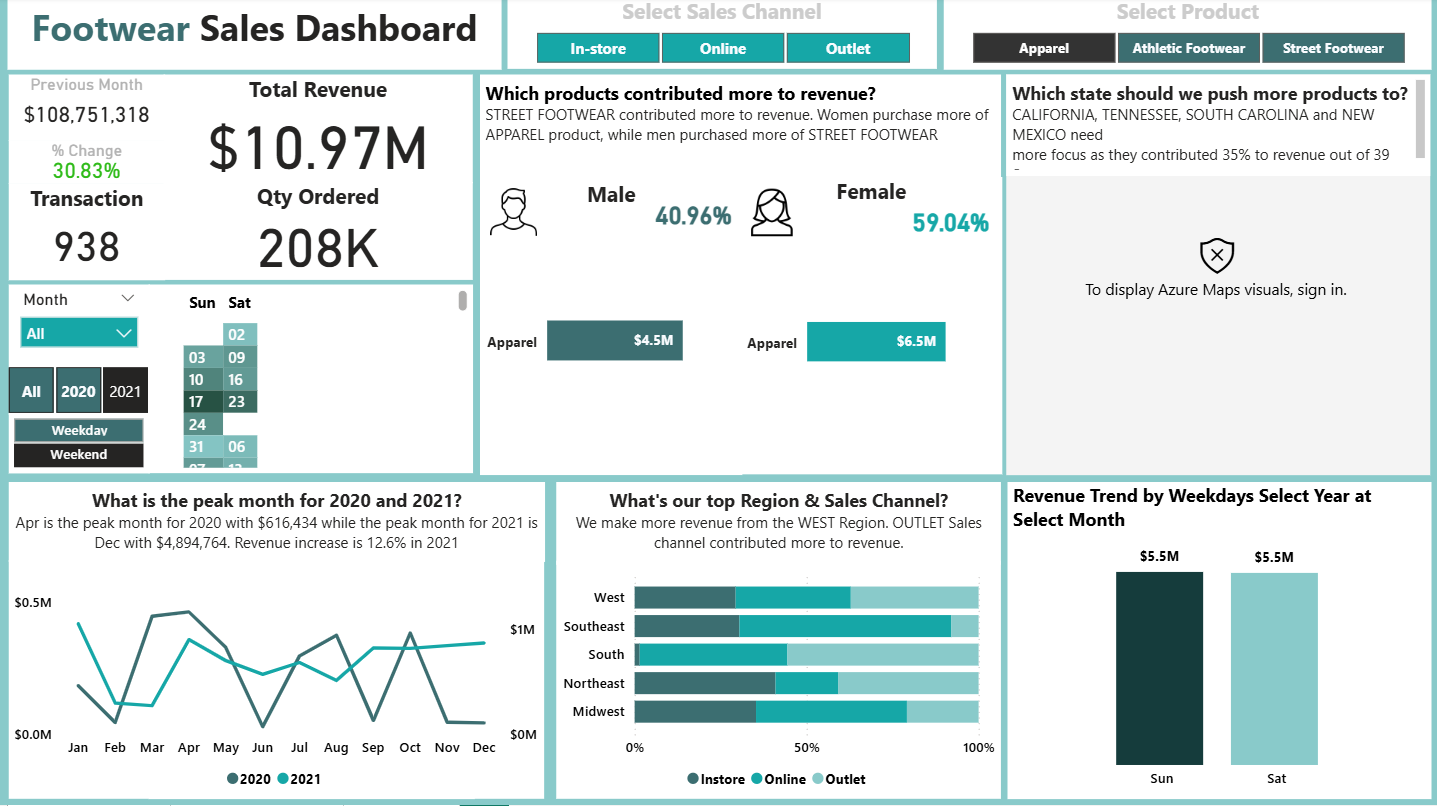

Layout of this report page (visuals, bound fields, positions):
{"tool":"powerbi","page":{"name":"Sales Dashboard","canvas":[1280,720],"ordinal":0},"visuals":[{"type":"textbox","box":[7,0,440,64.7],"z":0},{"type":"group","id":"g1","title":"Group 5","box":[427,68.7,464.8,356.5],"z":0,"group":"g5"},{"type":"hundredPercentStackedBarChart","fields":{"Category":["Adidas Sales.Region"],"Y":["Adidas Sales.Total Revenue of Instore","Adidas Sales.Total Revenue of Online","Adidas Sales.Total Revenue of Outlet"]},"box":[495.7,501.8,396.3,212.3],"z":0,"group":"g4"},{"type":"card","title":"Total Revenue","fields":{"Values":["Sum(Adidas Sales.Total Revenue)"]},"box":[146,68.5,275,97],"z":1000,"group":"g7"},{"type":"textbox","box":[495.7,431.9,396.3,73.6],"z":1000,"group":"g4"},{"type":"columnChart","fields":{"Category":["Date Table.Week Name"],"Y":["Sum(Adidas Sales.Total Revenue)"]},"box":[896.9,431.9,377.9,282.2],"z":1000},{"type":"slicer","title":"Select Sales Channel","fields":{"Values":["Adidas Sales.Sales Method"]},"box":[452,0,382,63.9],"z":2000},{"type":"image","box":[427.7,164.1,57.6,53.7],"z":2000,"group":"g8"},{"type":"slicer","title":"Select Product","fields":{"Values":["Adidas Sales.Product"]},"box":[840,0,434.7,65.1],"z":3000},{"type":"card","title":"Qty Ordered","fields":{"Values":["Sum(Adidas Sales.Units Sold)"]},"box":[146,164,275,87],"z":3000,"group":"g7"},{"type":"bookmarkNavigator","title":"Select Year","box":[8,330,125.2,42],"z":3000,"group":"g6"},{"type":"group","id":"g2","title":"Group 1","box":[133,68.7,1141.9,645.3],"z":4000},{"type":"image","box":[658.3,165.3,56.5,52.5],"z":4000,"group":"g8"},{"type":"card","title":"Transaction","fields":{"Values":["CountNonNull(Adidas Sales.Product)"]},"box":[8,165,139,86],"z":5000,"group":"g7"},{"type":"group","id":"g3","title":"Group 2","box":[7.4,431.9,477.3,282.2],"z":5000},{"type":"card","title":"% Change","fields":{"Values":["Sum(Bridge Table.% Change as Month)"]},"box":[7.8,127,139,38.1],"z":6000,"group":"g7"},{"type":"group","id":"g4","title":"Group 3","box":[495.7,431.9,396.3,282.2],"z":6000},{"type":"clusteredBarChart","title":"Male","fields":{"Category":["Adidas Sales.Product"],"Y":["Sum(Adidas Sales.Total Revenue)"]},"box":[427,162.2,233.8,263.1],"z":7000,"group":"g1"},{"type":"card","title":"Previous Month","fields":{"Values":["Sum(Bridge Table.PreviousMonthRevenue)"]},"box":[8,68.7,139,59],"z":8000,"group":"g7"},{"type":"group","id":"g5","title":"Group 8","box":[427,68.7,465,357.1],"z":8000},{"type":"barChart","title":"Female","fields":{"Category":["Adidas Sales.Product"],"Y":["Sum(Adidas Sales.Total Revenue)"]},"box":[658,159.6,233.8,265],"z":8000,"group":"g1"},{"type":"azureMap","fields":{"Category":["Adidas Sales.State"],"Series":["Adidas Sales.City"]},"box":[896.9,68.8,377.4,357],"z":9000,"group":"g2"},{"type":"group","id":"g6","title":"Group 4","box":[8,256.4,414,168.2],"z":9000},{"type":"group","id":"g7","title":"Group 7","box":[7.8,68.5,413.2,182.5],"z":10000},{"type":"lineChart","fields":{"Y2":["Adidas Sales.Total Revenue in 2021"],"Y":["Adidas Sales.Total Revenue in 2020"],"Category":["Date Table.Month Name"]},"box":[7.4,501.8,476.6,212.3],"z":10000,"group":"g3"},{"type":"textbox","box":[897.2,68.7,377.7,90.1],"z":11000,"group":"g2"},{"type":"pivotTable","fields":{"Columns":["Date Table.Week Name"],"Values":["Min(Date Table.Day)"],"Rows":["Date Table.Week Number"]},"box":[133,256.5,289,168.1],"z":11000,"group":"g6"},{"type":"textbox","box":[7.4,431.9,477.3,71.2],"z":11003,"group":"g3"},{"type":"card","fields":{"Values":["Adidas Sales.Female Contribution"]},"box":[802.3,180.4,85.9,38],"z":12000,"group":"g8"},{"type":"slicer","fields":{"Values":["Date Table.Month Year"]},"box":[8,256.4,125.2,73.6],"z":12000,"group":"g6"},{"type":"azureMap","box":[133,432,290,282],"z":12001,"group":"g2"},{"type":"card","fields":{"Values":["Adidas Sales.Male Contribution"]},"box":[574.1,170.6,84.7,46.6],"z":13000,"group":"g8"},{"type":"textbox","box":[427,68.7,464.1,94.5],"z":13002,"group":"g1"},{"type":"group","id":"g8","title":"Group 6","box":[427.7,164.1,460.5,54.4],"z":16001,"group":"g5"},{"type":"advancedSlicerVisual","fields":{"Values":["Date Table.Weekdays/Weekend"]},"box":[8,370.9,125.2,53.6],"z":16001,"group":"g6"}]}

Visuals, with their boxes in screenshot pixels (x1, y1, x2, y2), scaled from the page's 1280x720 canvas onto the 1437x806 screenshot:
textbox: Rect(8, 0, 502, 72)
"Group 5" group: Rect(479, 77, 1001, 476)
hundredPercentStackedBarChart - Adidas Sales.Region x Adidas Sales.Total Revenue of Instore: Rect(557, 562, 1001, 799)
"Total Revenue" card: Rect(164, 77, 473, 185)
textbox: Rect(557, 483, 1001, 566)
columnChart - Date Table.Week Name x Sum(Adidas Sales.Total Revenue): Rect(1007, 483, 1431, 799)
"Select Sales Channel" slicer: Rect(507, 0, 936, 72)
image: Rect(480, 184, 545, 244)
"Select Product" slicer: Rect(943, 0, 1431, 73)
"Qty Ordered" card: Rect(164, 184, 473, 281)
"Select Year" bookmarkNavigator: Rect(9, 369, 150, 416)
"Group 1" group: Rect(149, 77, 1431, 799)
image: Rect(739, 185, 802, 244)
"Transaction" card: Rect(9, 185, 165, 281)
"Group 2" group: Rect(8, 483, 544, 799)
"% Change" card: Rect(9, 142, 165, 185)
"Group 3" group: Rect(557, 483, 1001, 799)
"Male" clusteredBarChart: Rect(479, 182, 742, 476)
"Previous Month" card: Rect(9, 77, 165, 143)
"Group 8" group: Rect(479, 77, 1001, 477)
"Female" barChart: Rect(739, 179, 1001, 475)
azureMap - Adidas Sales.State x Adidas Sales.City: Rect(1007, 77, 1431, 477)
"Group 4" group: Rect(9, 287, 474, 475)
"Group 7" group: Rect(9, 77, 473, 281)
lineChart - Adidas Sales.Total Revenue in 2021 x Adidas Sales.Total Revenue in 2020: Rect(8, 562, 543, 799)
textbox: Rect(1007, 77, 1431, 178)
pivotTable - Date Table.Week Name x Min(Date Table.Day): Rect(149, 287, 474, 475)
textbox: Rect(8, 483, 544, 563)
card - Adidas Sales.Female Contribution: Rect(901, 202, 997, 244)
slicer - Date Table.Month Year: Rect(9, 287, 150, 369)
azureMap: Rect(149, 484, 475, 799)
card - Adidas Sales.Male Contribution: Rect(645, 191, 740, 243)
textbox: Rect(479, 77, 1000, 183)
"Group 6" group: Rect(480, 184, 997, 245)
advancedSlicerVisual - Date Table.Weekdays/Weekend: Rect(9, 415, 150, 475)
